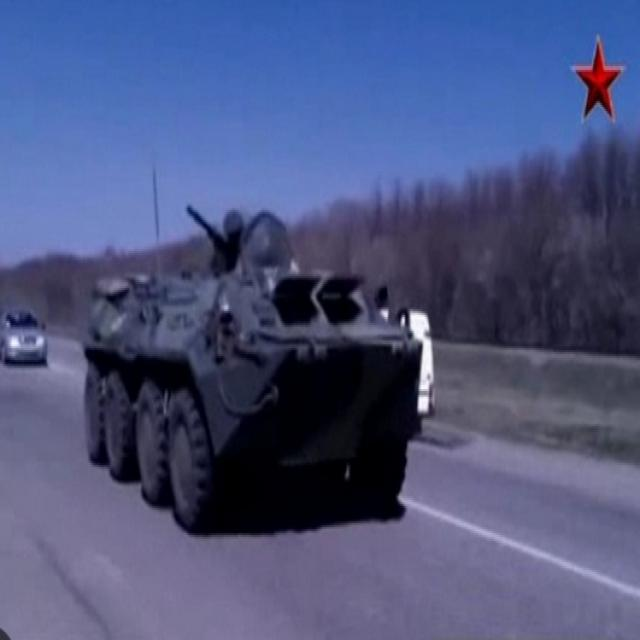MIL_APC: (48, 199, 462, 538)
